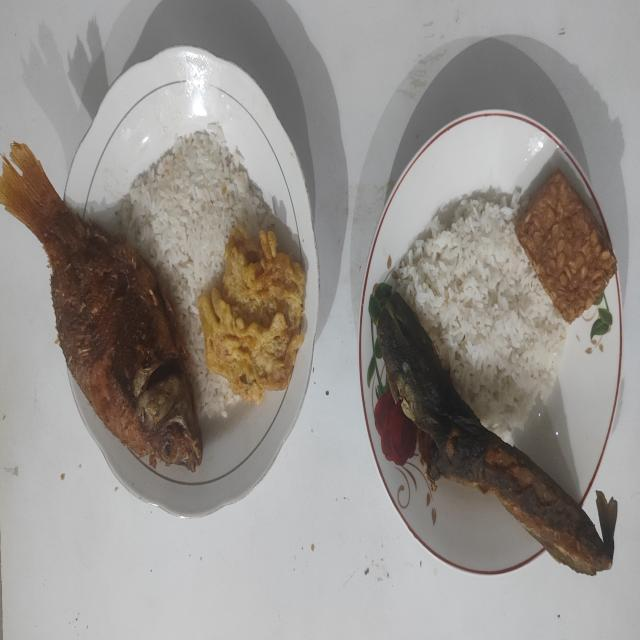ikan_mujair: (0, 143, 202, 471)
nasi_putih: (118, 123, 270, 419), (398, 188, 568, 436)
tempe_goreng: (514, 170, 616, 324)
